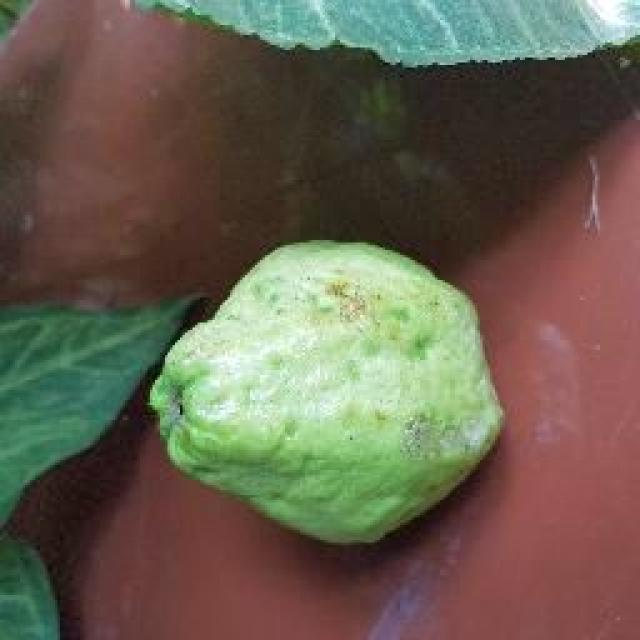Good_Guava: (148, 240, 508, 550)
